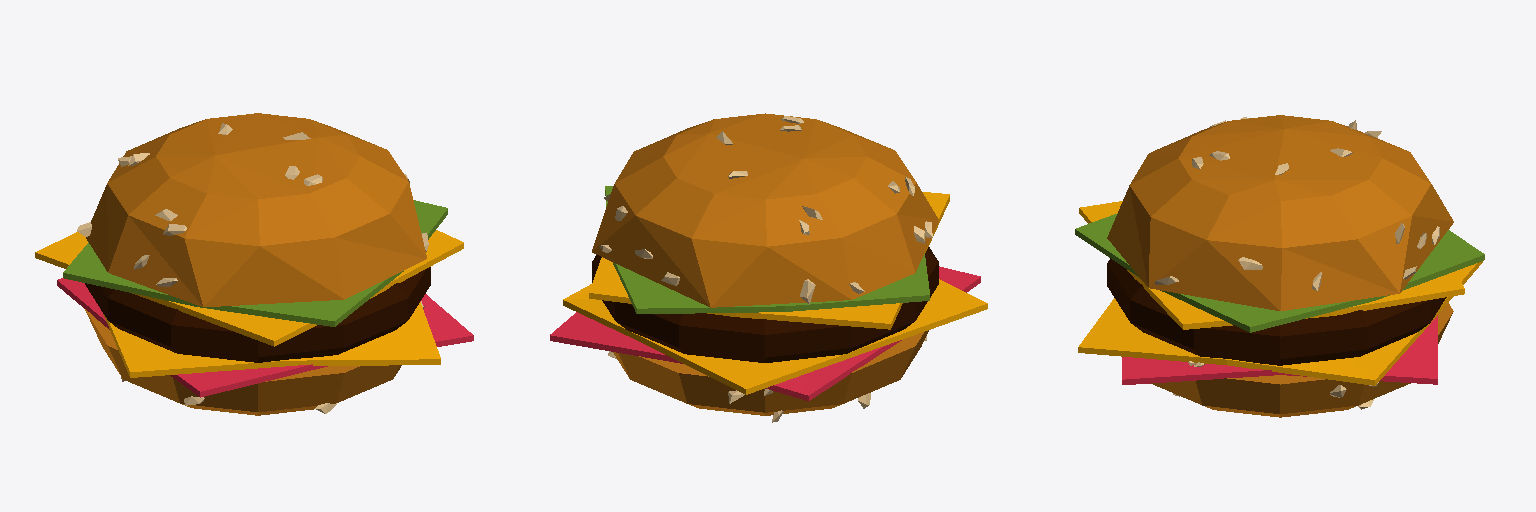
3 renders of one model, left to right at view 1: azimuth 30°, elevation 25°; view 2: azimuth 150°, elevation 25°; view 3: azimuth 270°, elevation 25°, orthographic.
Parts seen in each view (by area): view 1: Cylinder.001_Mesh; view 2: Cylinder.001_Mesh; view 3: Cylinder.001_Mesh.
Boxes of the visible parts, box(x1,y1,x2,y2) form: Cylinder.001_Mesh: box(35, 113, 473, 415); Cylinder.001_Mesh: box(550, 113, 987, 422); Cylinder.001_Mesh: box(1075, 115, 1484, 417).
Bounding box in the file's own units: 0.1874 × 0.1142 × 0.1876.
Materials: 3 (1 with a texture image).